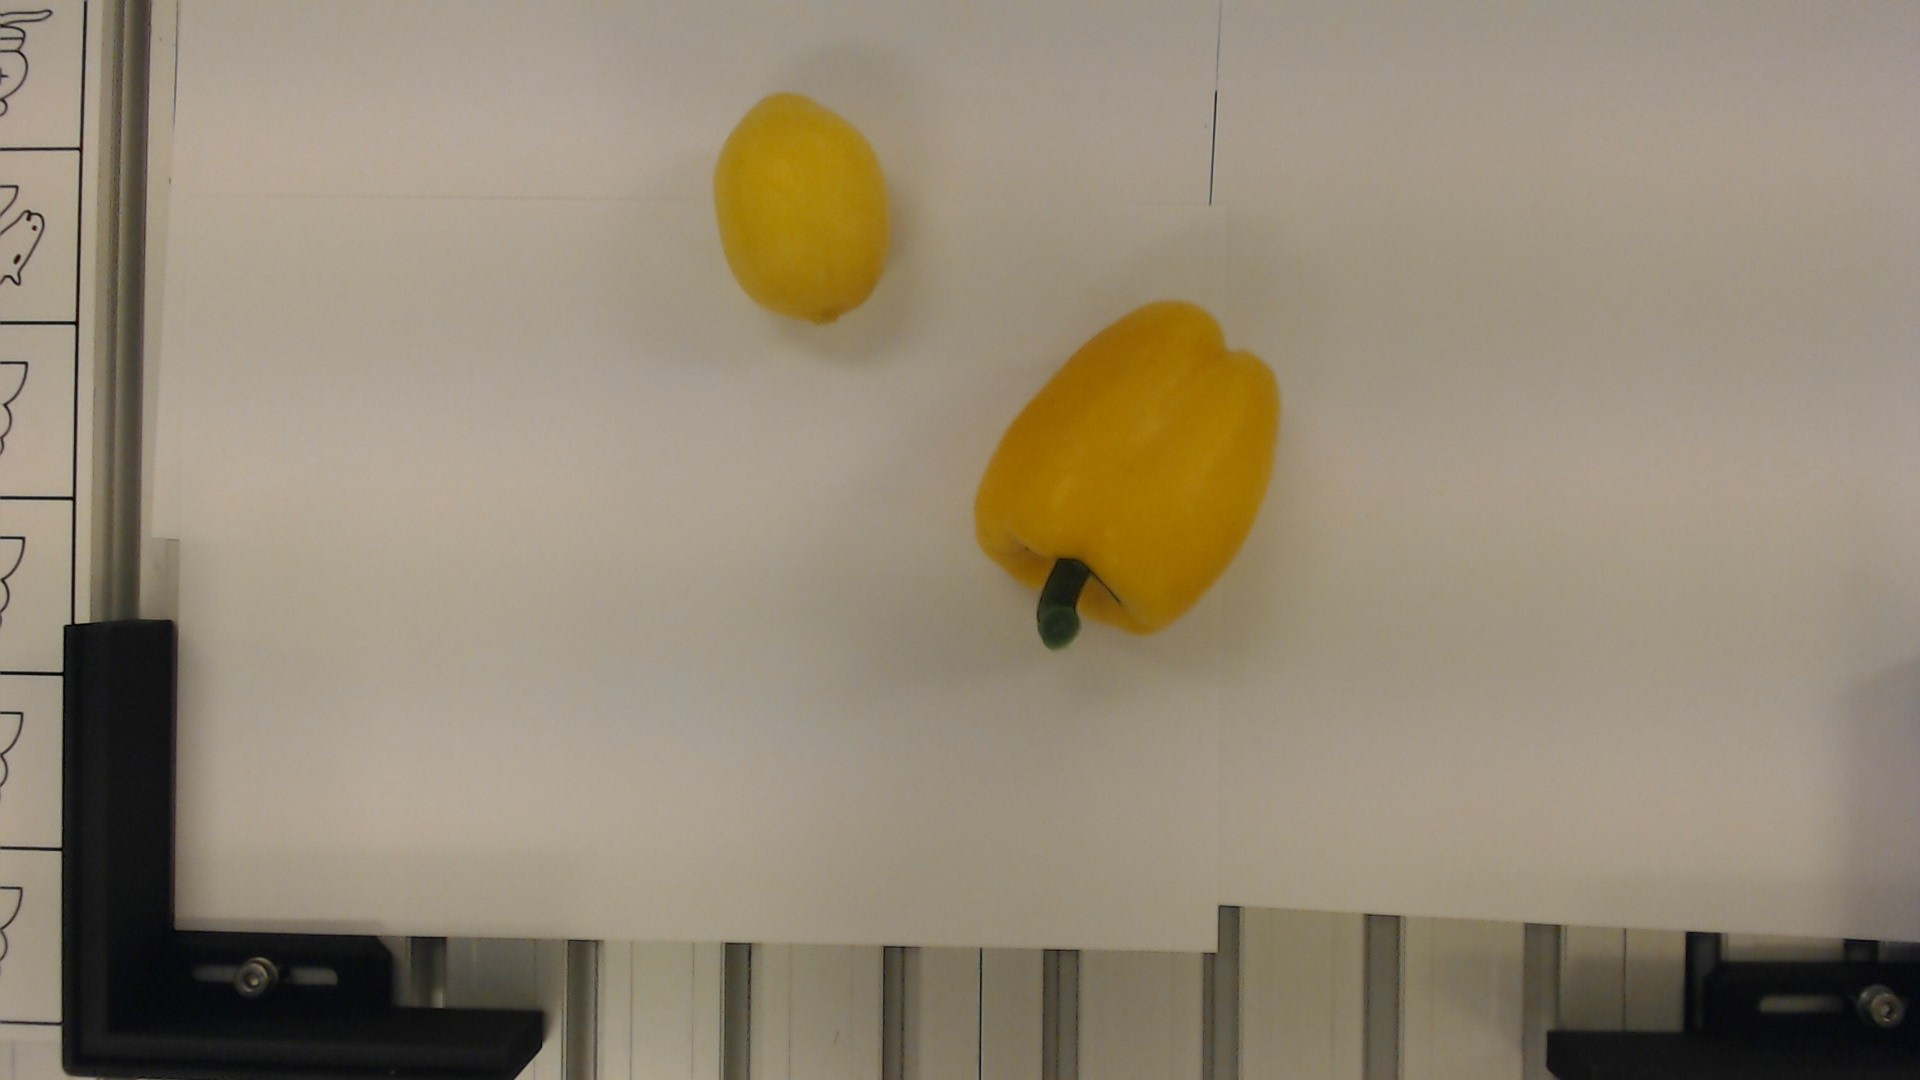Lemon: (711, 86, 895, 330)
Yellow Bell Pepper: (967, 299, 1286, 662)
